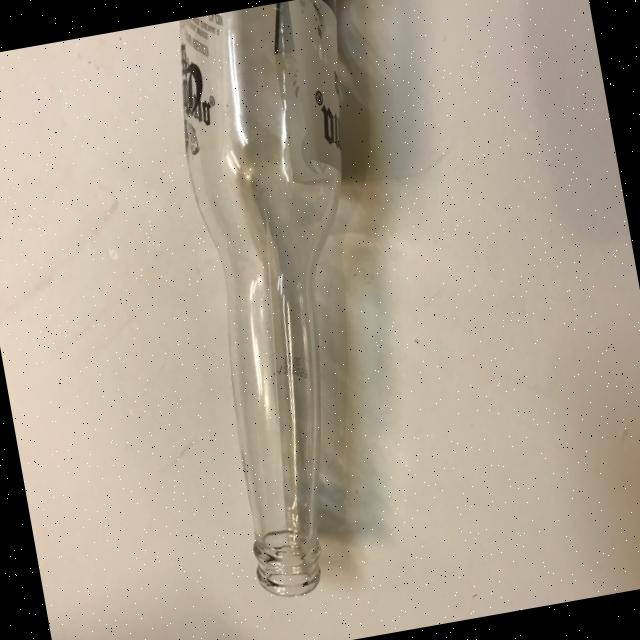glass: (158, 0, 436, 602)
